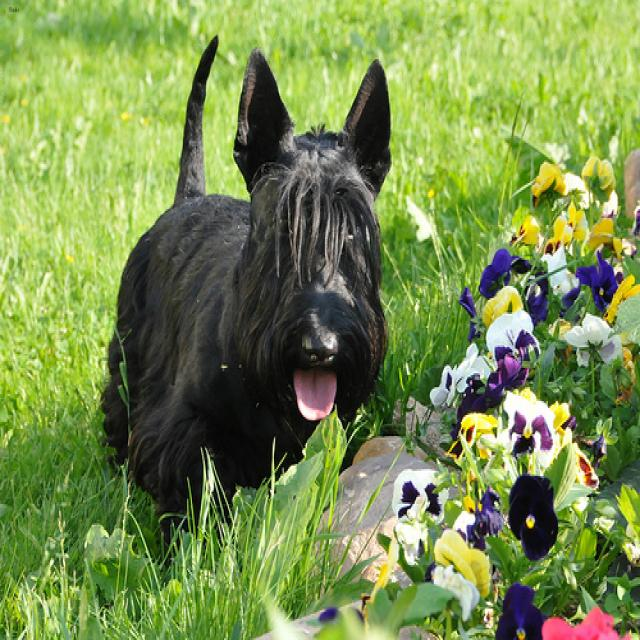dog-scottish_terrier: (95, 26, 402, 586)
